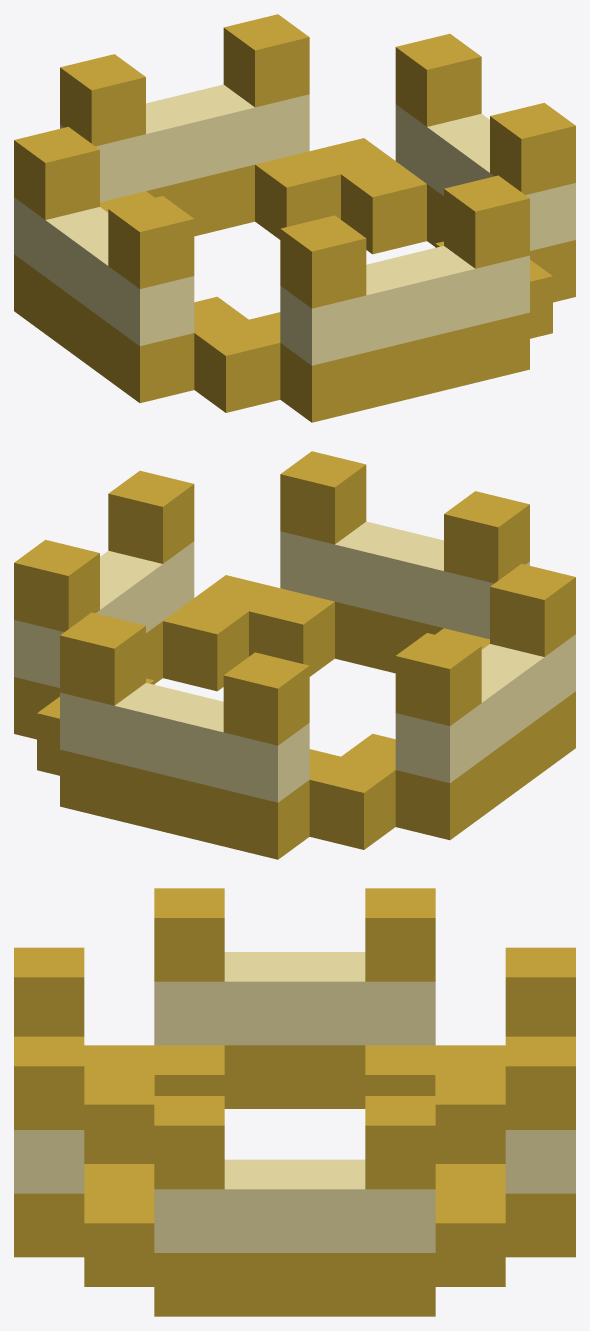
The model's file is Axyl-1.obj.
The picture shows the model from 3 angles, top to bottom: view 1: azimuth 30°, elevation 25°; view 2: azimuth 150°, elevation 25°; view 3: azimuth 270°, elevation 25°; orthographic projection. The views are drawn at different scales.
Bounding box in the file's own units: 0.8 × 0.3 × 0.8.
1 material, 1 textured.
